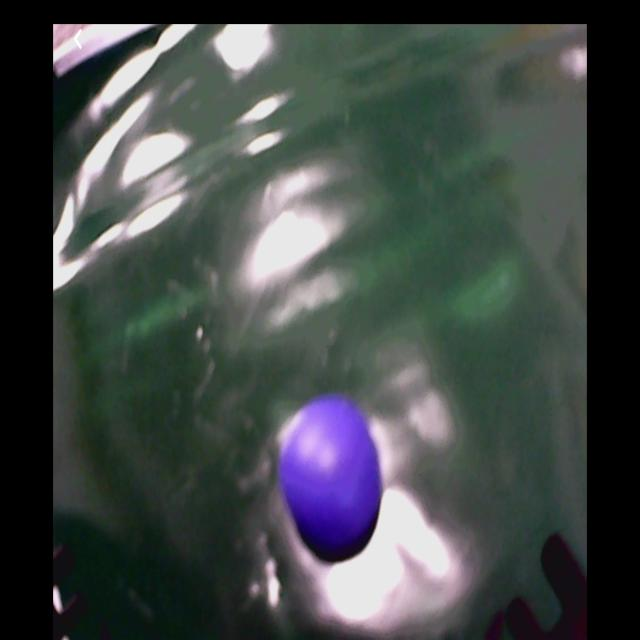ball: (282, 401, 383, 559)
